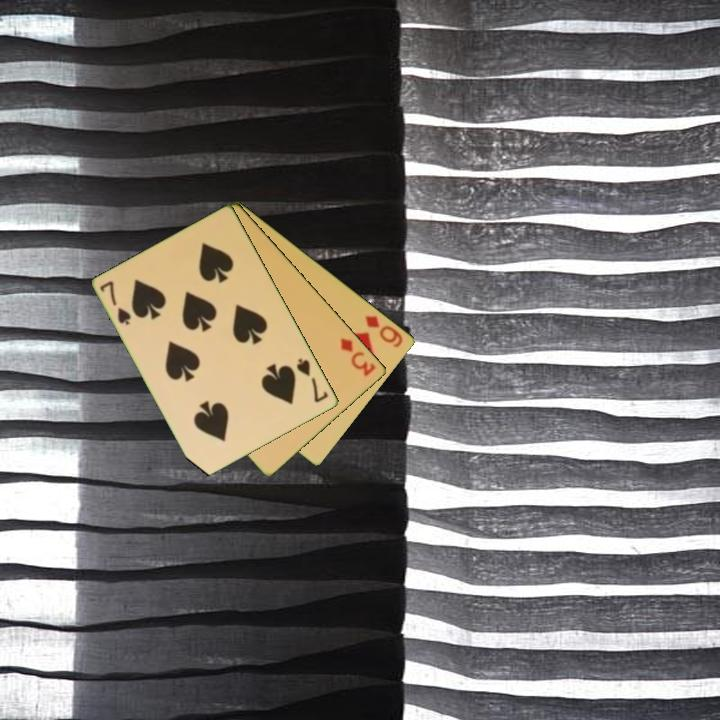3d: (337, 334, 379, 379)
6d: (362, 312, 406, 350)
7s: (293, 355, 331, 406), (96, 277, 134, 328)
